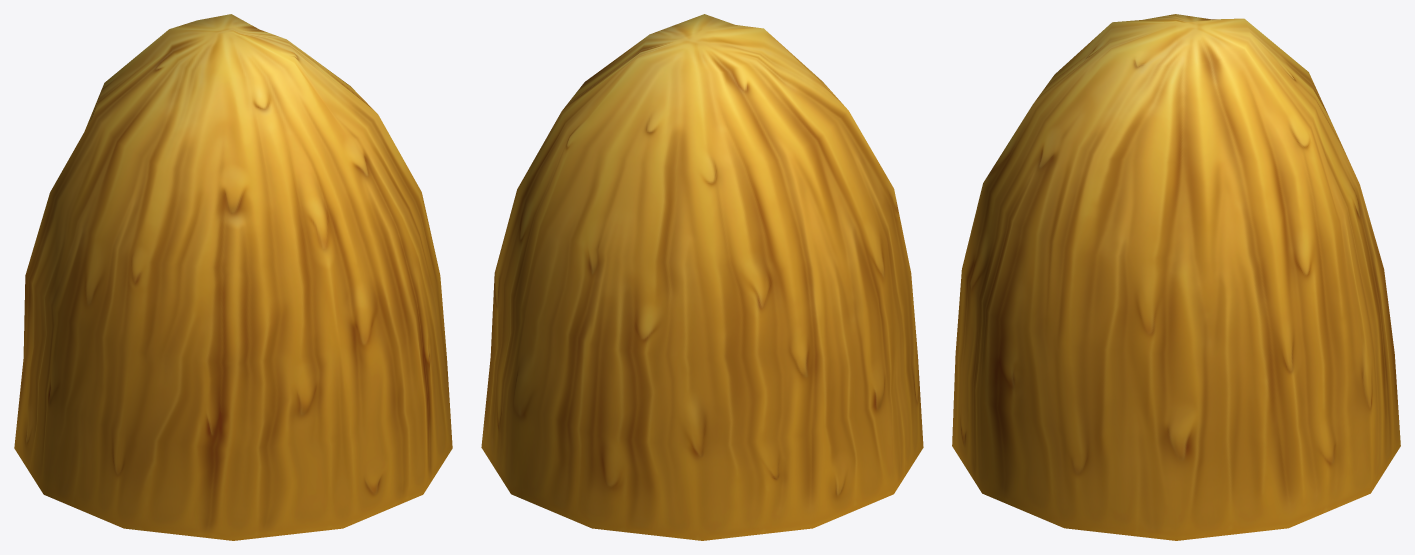
File: tawara1.fbx
The picture shows the model from 3 angles, left to right: view 1: azimuth 30°, elevation 25°; view 2: azimuth 150°, elevation 25°; view 3: azimuth 270°, elevation 25°; orthographic projection. The views are drawn at different scales.
Parts seen in each view (by area): view 1: HayCock_Straw; view 2: HayCock_Straw; view 3: HayCock_Straw.
Part boxes in pixels (box(x1,y1,x2,y2)): HayCock_Straw: box(14, 14, 452, 540); HayCock_Straw: box(481, 14, 923, 540); HayCock_Straw: box(952, 14, 1400, 540).
Size of the model in its own units: 95.64 by 99.43 by 95.64.
Materials: 1 (1 with a texture image).
